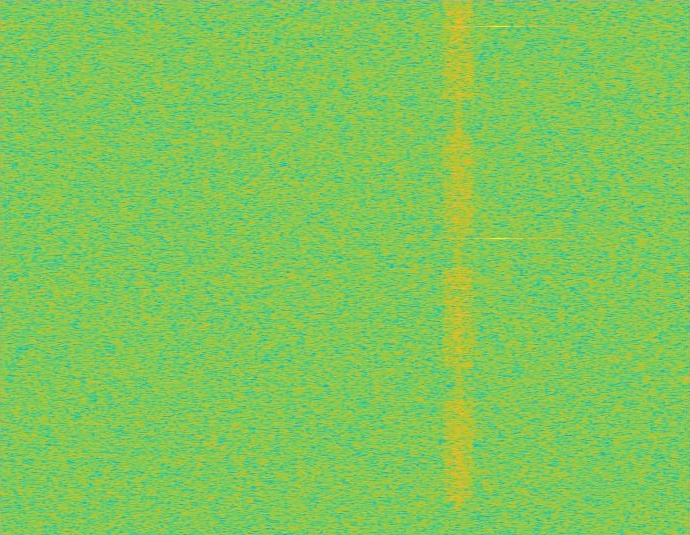5G: (442, 0, 476, 534)
DSSS: (455, 0, 463, 534)
Radar: (492, 0, 506, 534)
